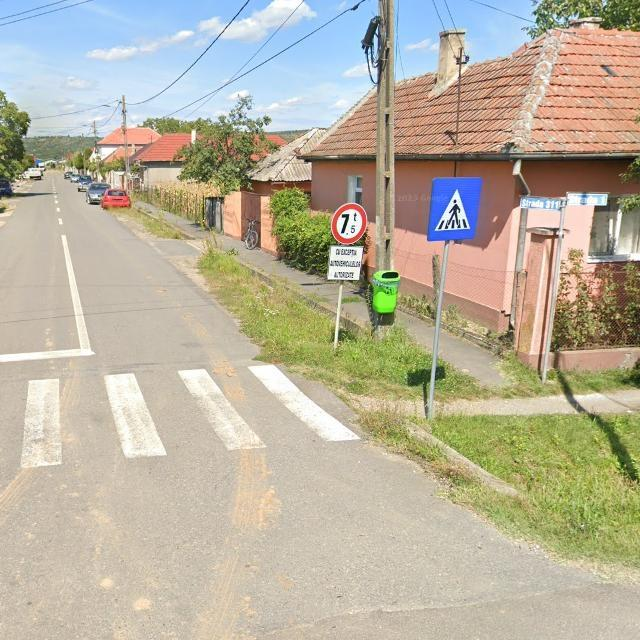info_crosswalk: (428, 178, 481, 241)
